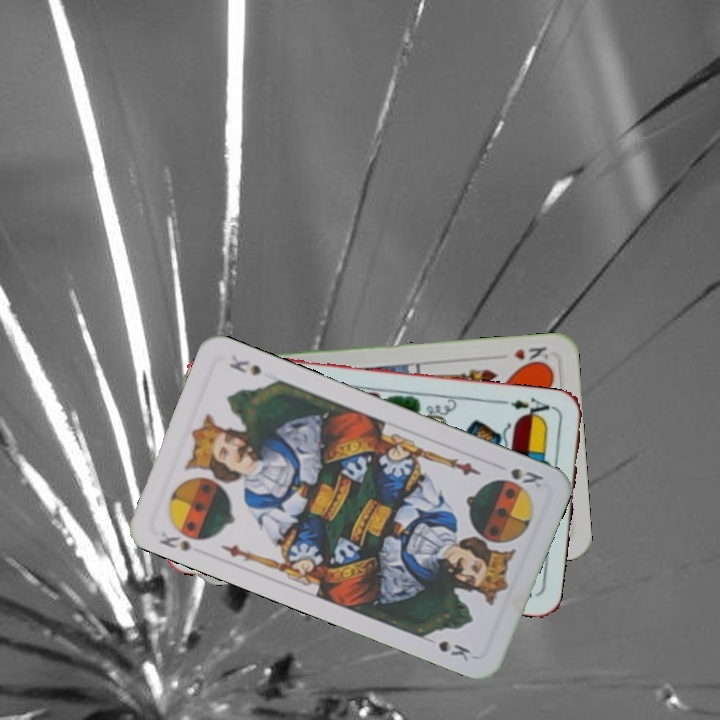EA: (499, 393, 558, 422)
HK: (509, 343, 551, 369)
SK: (507, 464, 546, 491), (155, 527, 193, 554)
